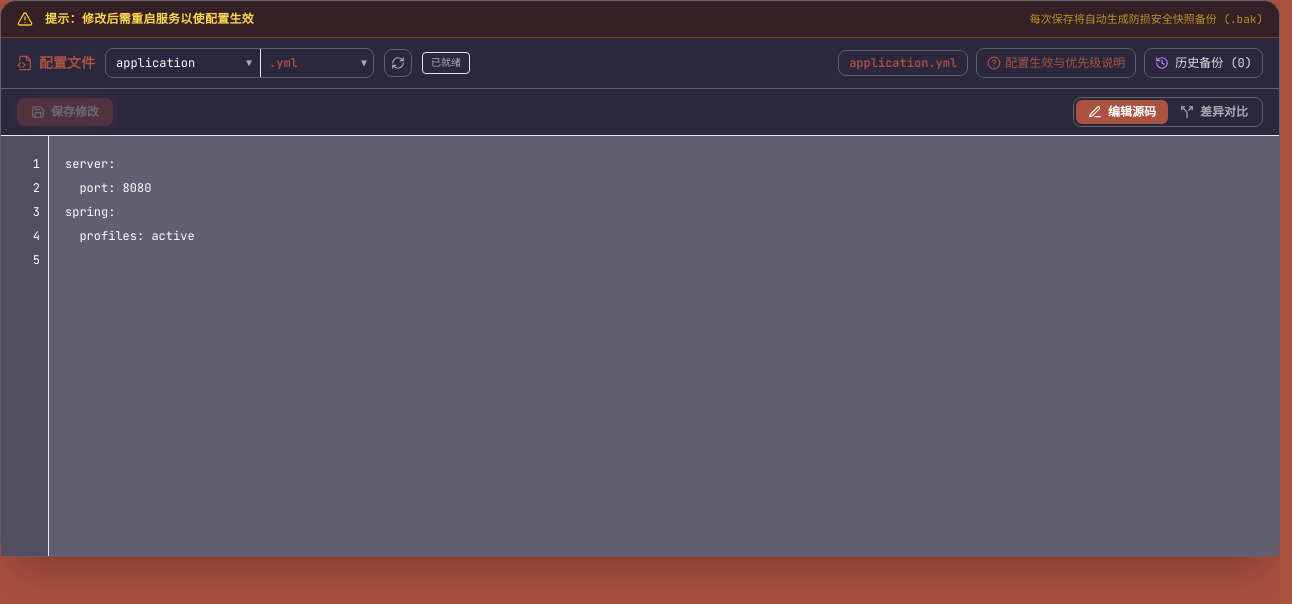
Test case: ConfigDiffEditor › allows selecting different profile name such as application-dev
The image size is (1292, 604).
Select "application-dev" in the dropdown with test id "config-name-select". click: (183,63)
box: [106, 49, 260, 77]
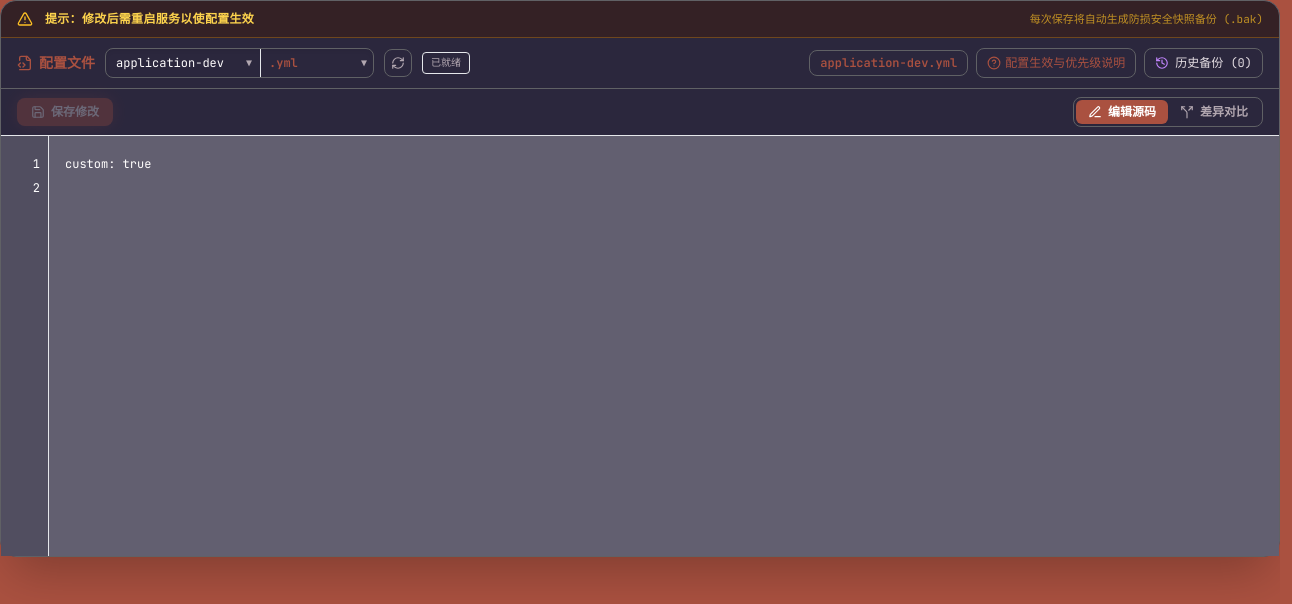
Expected: the text with test id "config-current-filename" reads "application-dev.yml", [820, 55, 957, 71]
